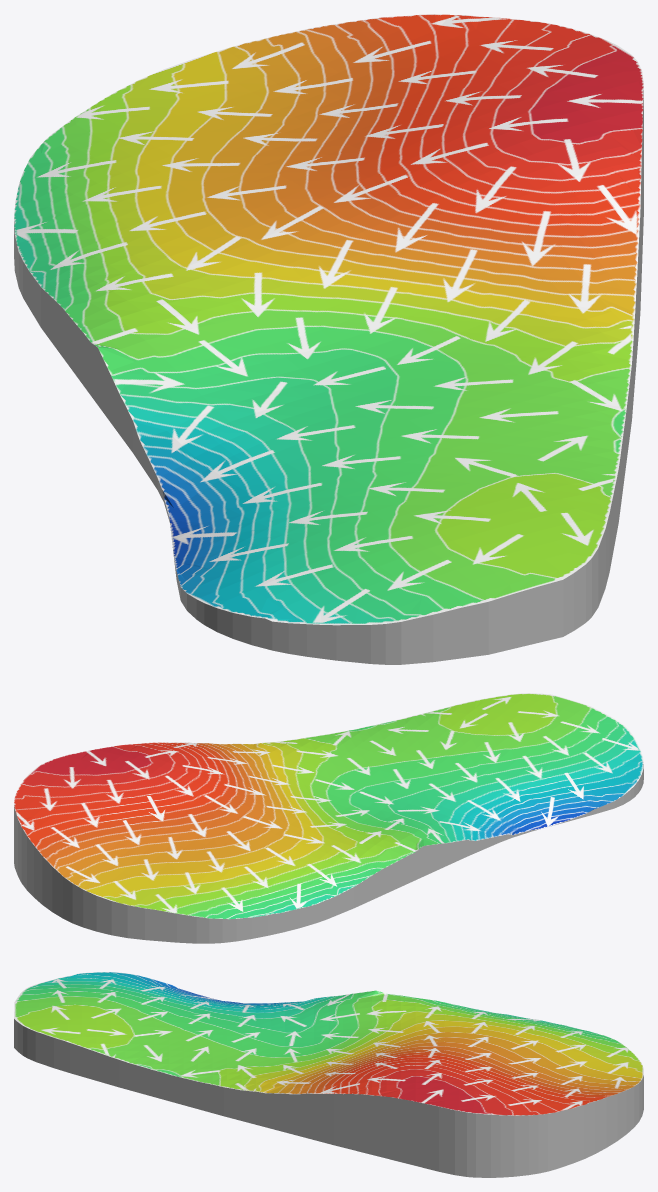
3 views of the same model, one above another, from view 1: azimuth 30°, elevation 25°; view 2: azimuth 150°, elevation 25°; view 3: azimuth 270°, elevation 25° (orthographic). The views are drawn at different scales.
Bounding box in the file's own units: 4.93 × 0.7725 × 6.76.
2 materials, 1 textured.
